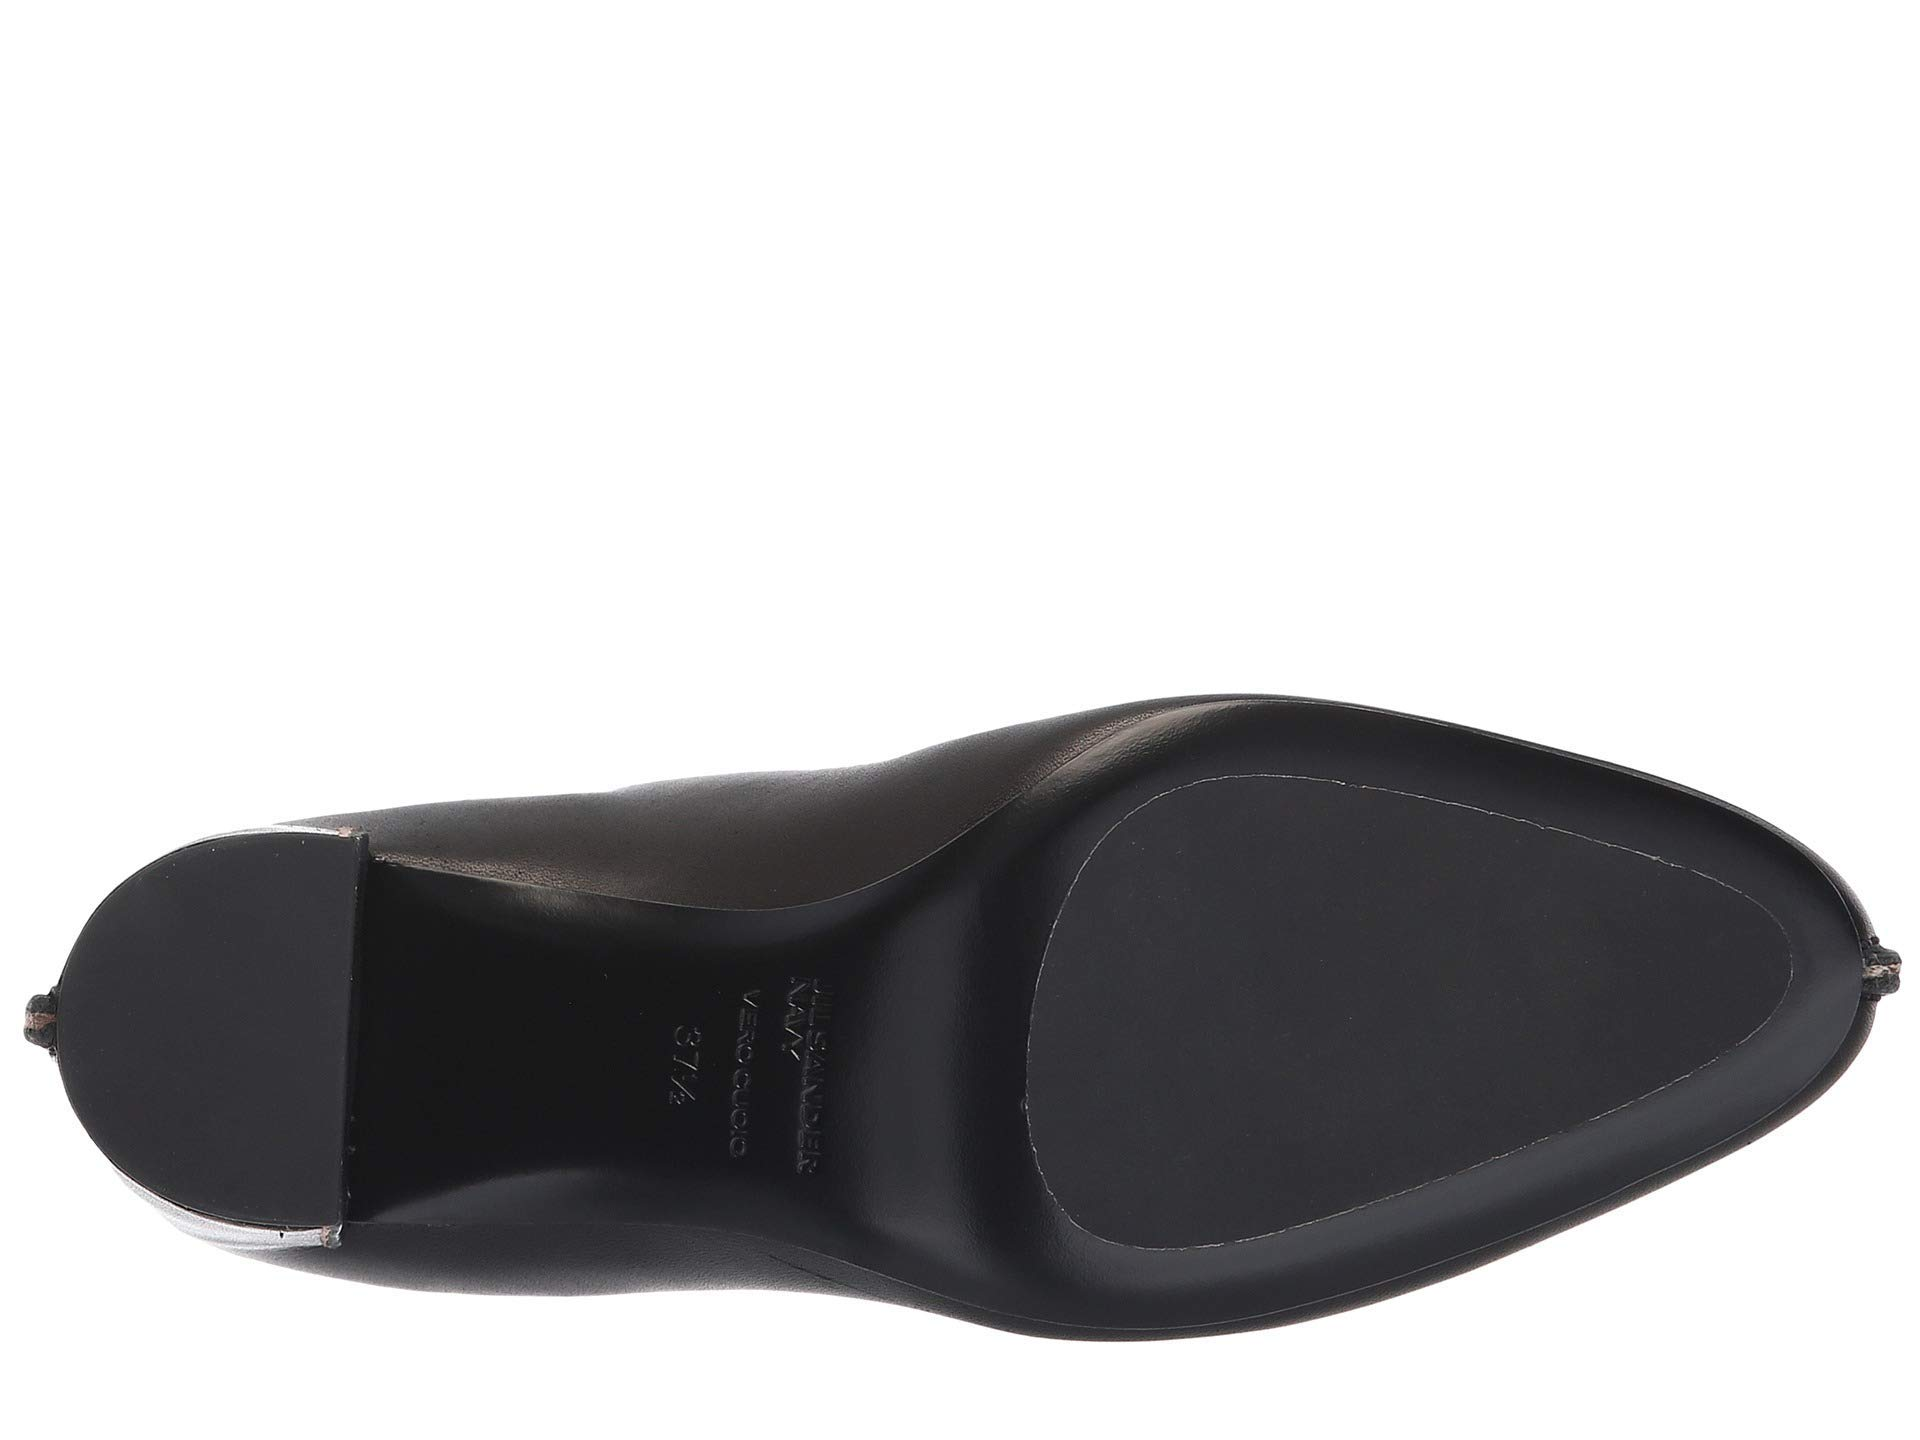other: (1158, 846, 1603, 1103), (175, 914, 316, 1206)
